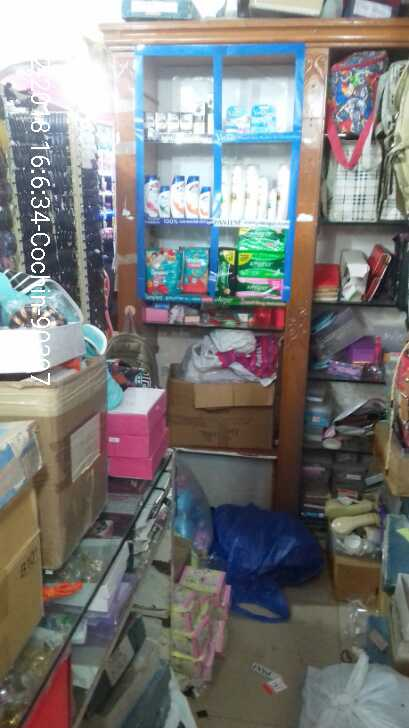venus: (249, 106, 275, 133), (226, 107, 249, 133)
